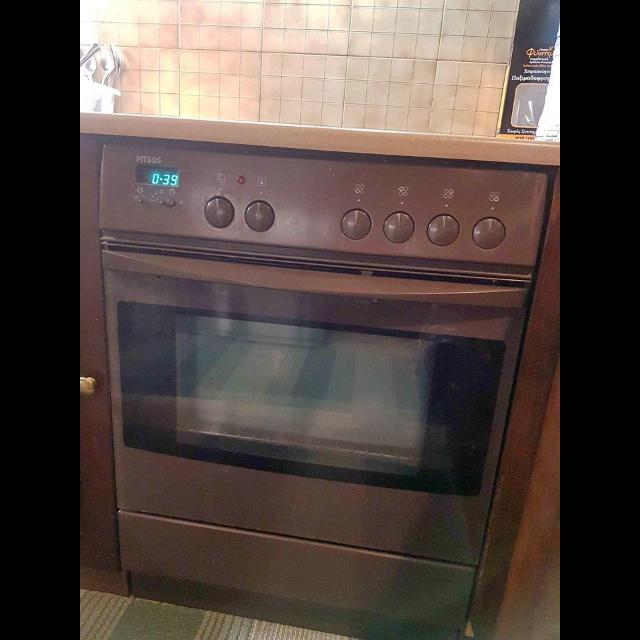Oven: (80, 100, 560, 636)
